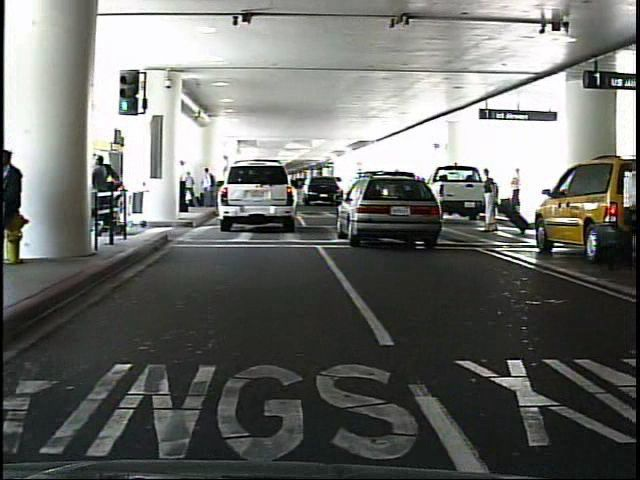person: (3, 148, 38, 266), (614, 156, 640, 262), (482, 166, 502, 233), (512, 166, 526, 216), (182, 157, 192, 216), (204, 167, 218, 209)
